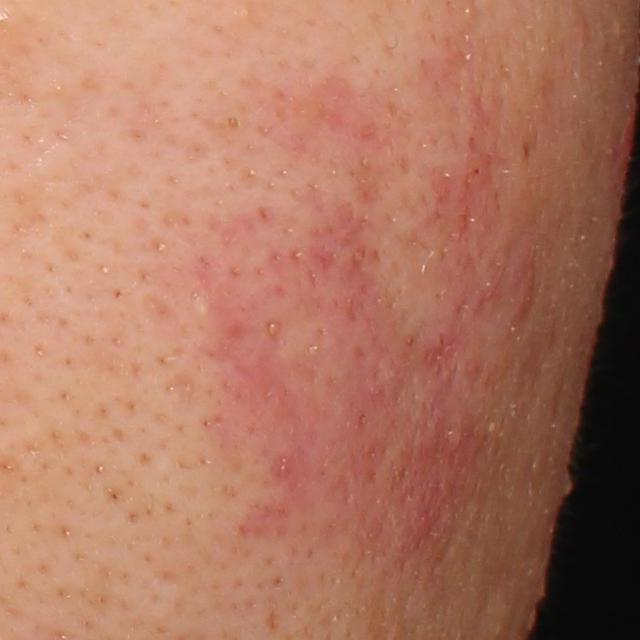atrophic_scar: (136, 290, 188, 337), (159, 368, 197, 417)
comedo: (218, 113, 244, 133)
